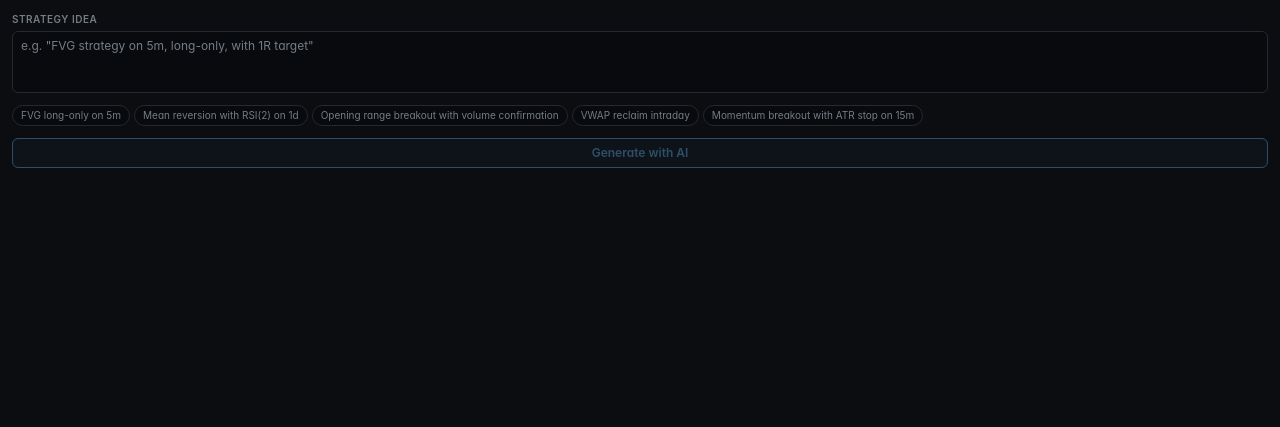
Test case: <AIPromptTab /> › shows validation warning banner when validation_status.valid=false
The width and height of the screenshot is (1280, 427).
Type "FVG strategy on 5m long-only" into the text box named "strategy idea prompt". click: (640, 62)
box: [12,31,1268,93]
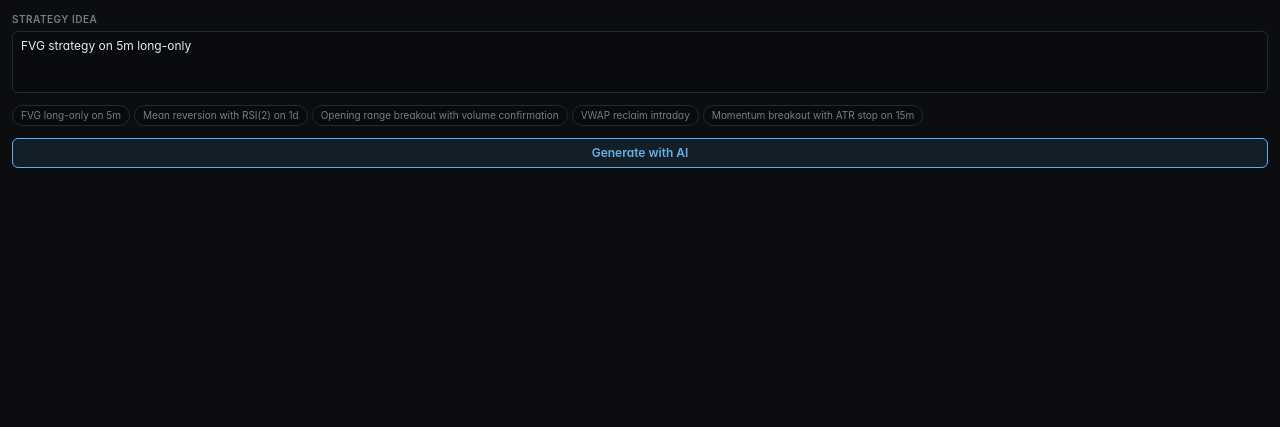
Click the button with test id "ai-generate-btn". click: (640, 153)
box: [12,138,1268,168]
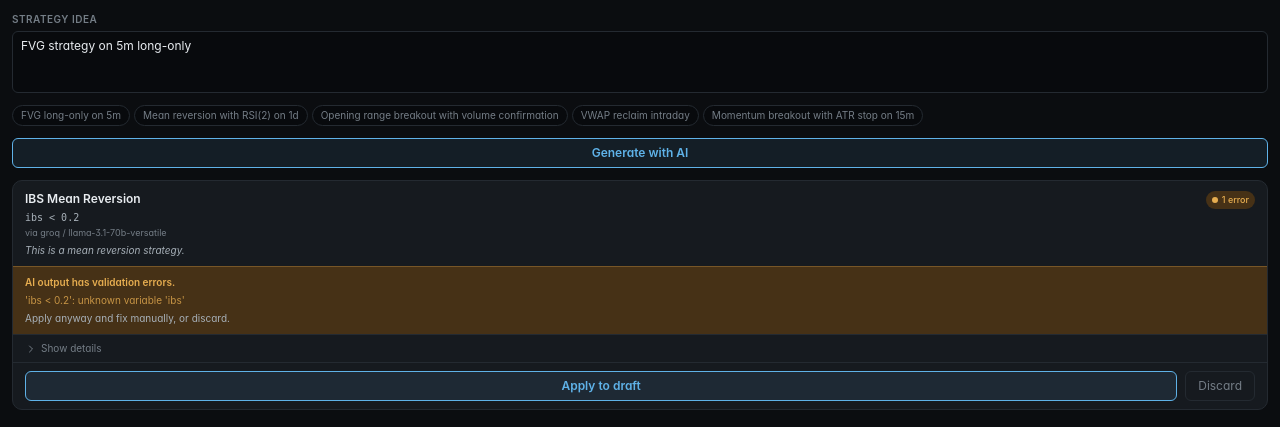
Expected: the message with test id "ai-validation-warning-banner" is shown, [13,266,1267,334]
Expected: the text "AI output has validation errors." is shown, [25,276,175,288]
Expected: the button with test id "ai-apply-btn" is shown, [25,371,1177,401]
